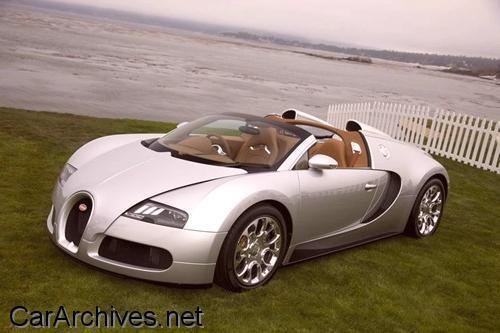Car: (19, 86, 455, 304)
